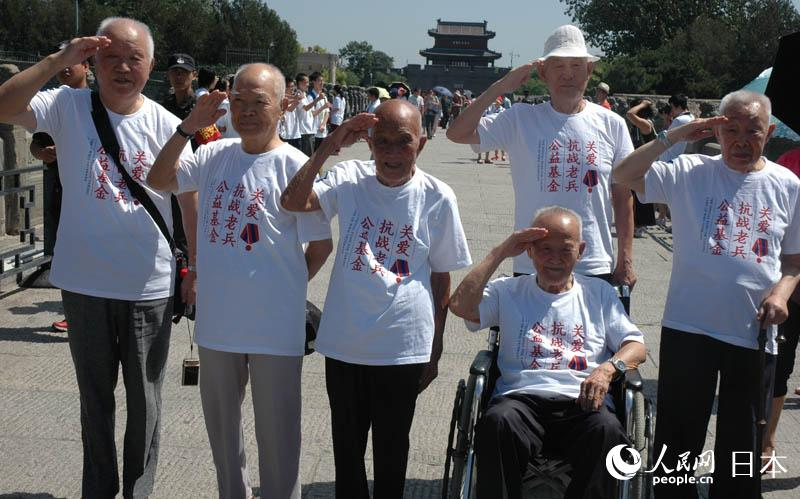handsup: (9, 13, 205, 481), (609, 56, 793, 498), (149, 57, 335, 493), (279, 82, 458, 483), (443, 13, 654, 300), (447, 206, 647, 489)
